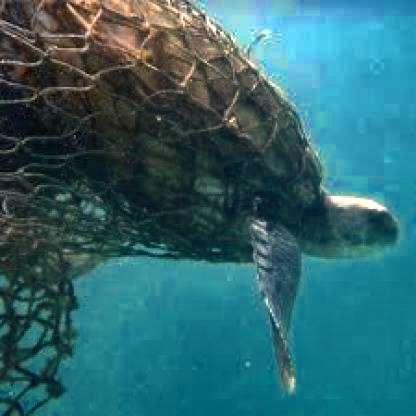net: (2, 2, 325, 264)
